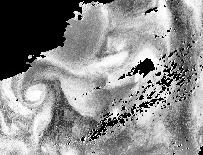CE: (18, 77, 52, 108)
